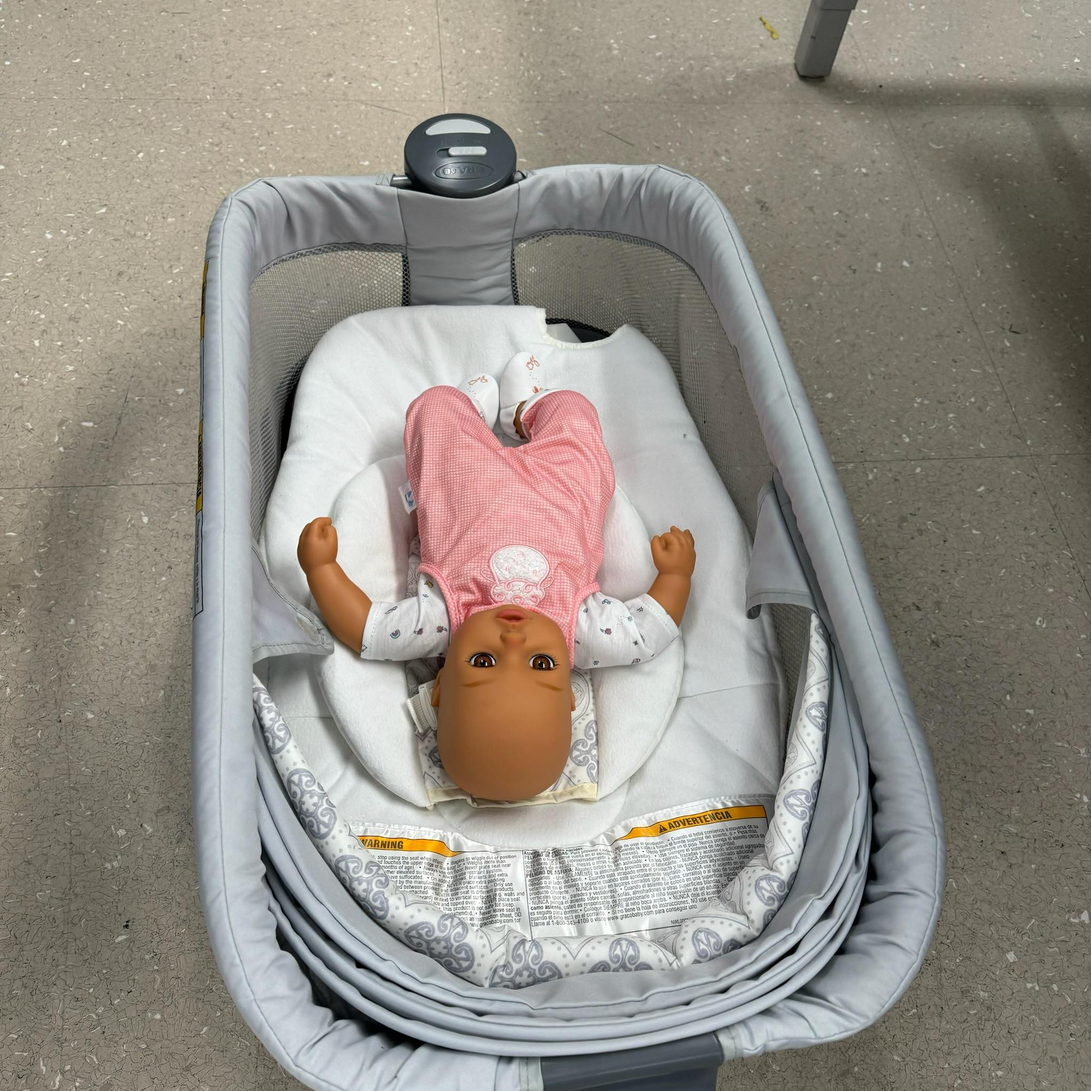baby: (289, 338, 715, 815)
